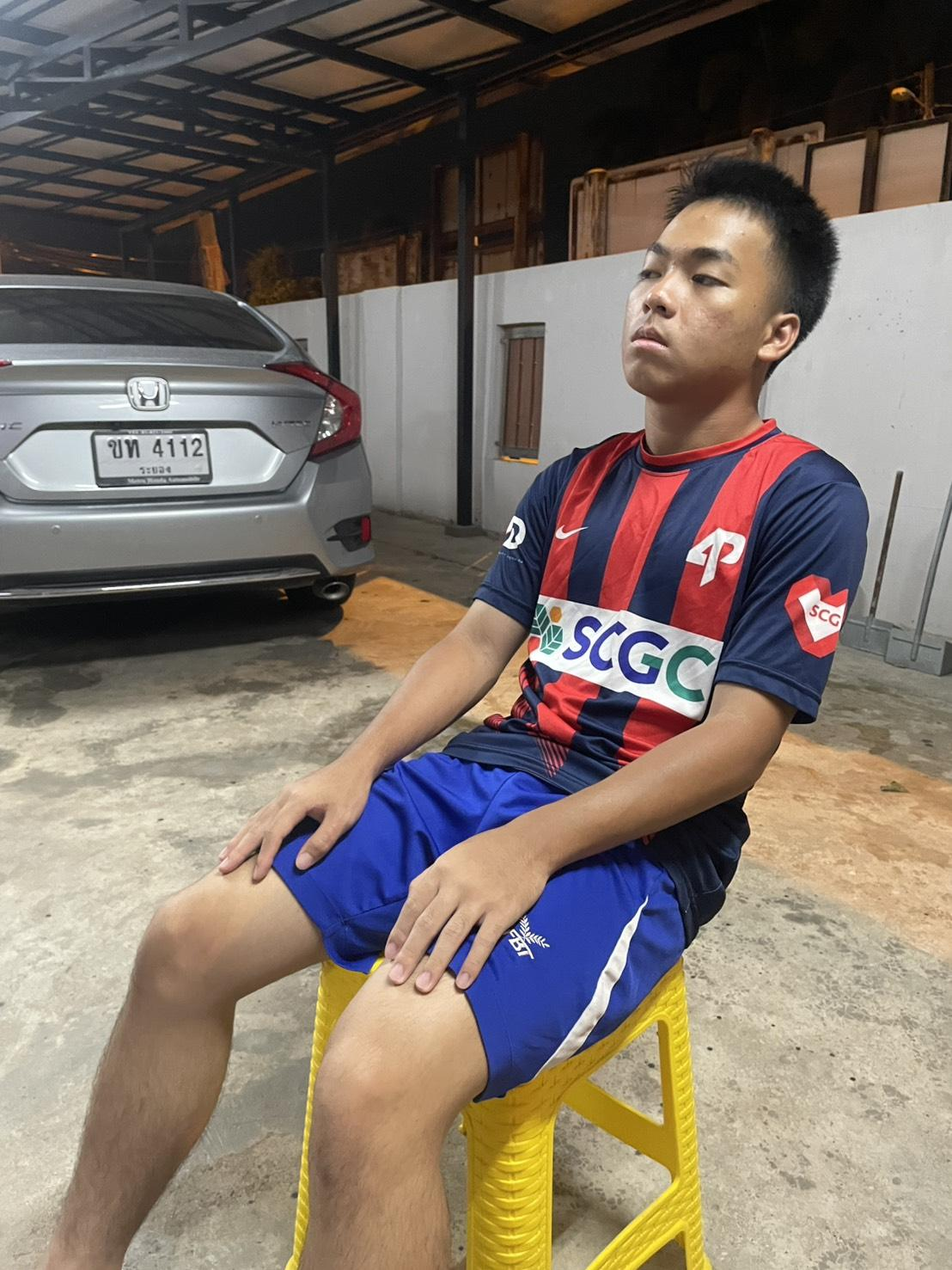BadPosture: (180, 158, 867, 1114)
